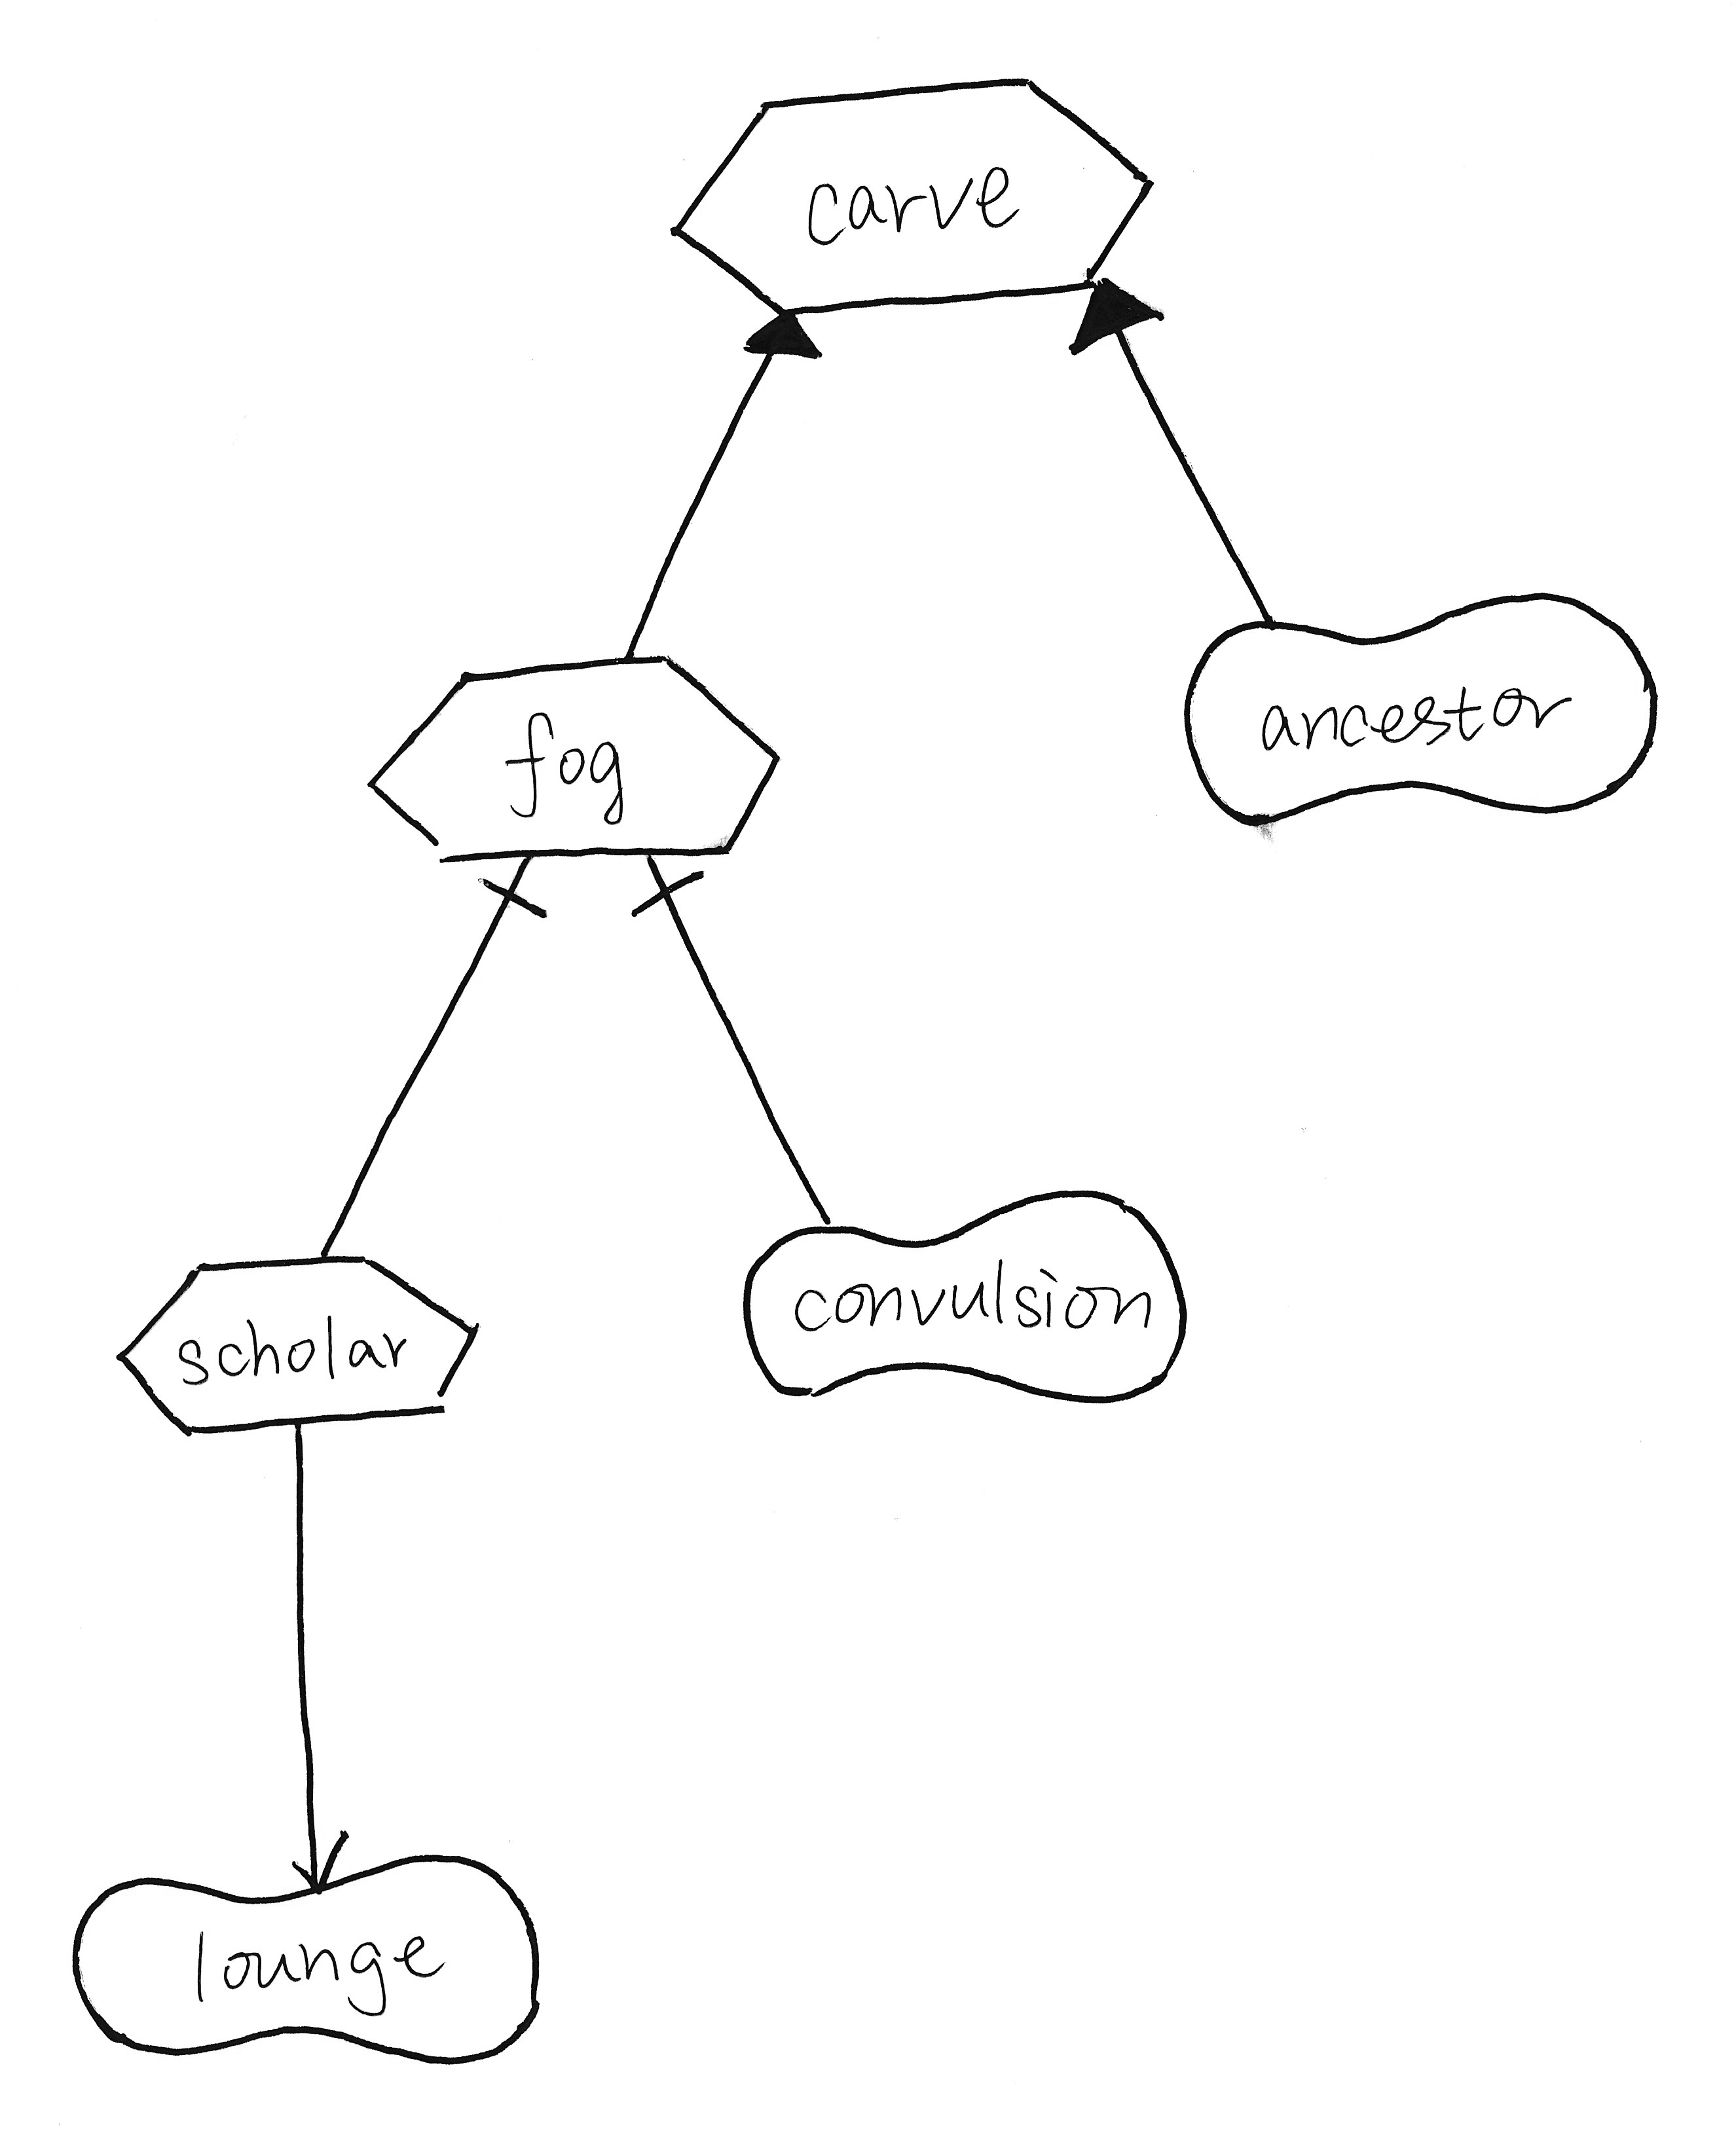and: (606, 852, 737, 946), (462, 852, 562, 946)
arrow: (264, 1815, 361, 1897)
or: (1054, 267, 1178, 372), (717, 297, 829, 382)
quality: (1167, 570, 1670, 848), (725, 1169, 1205, 1427), (58, 1831, 554, 2077)
task: (659, 46, 1167, 336), (335, 636, 806, 880), (101, 1240, 503, 1450)
